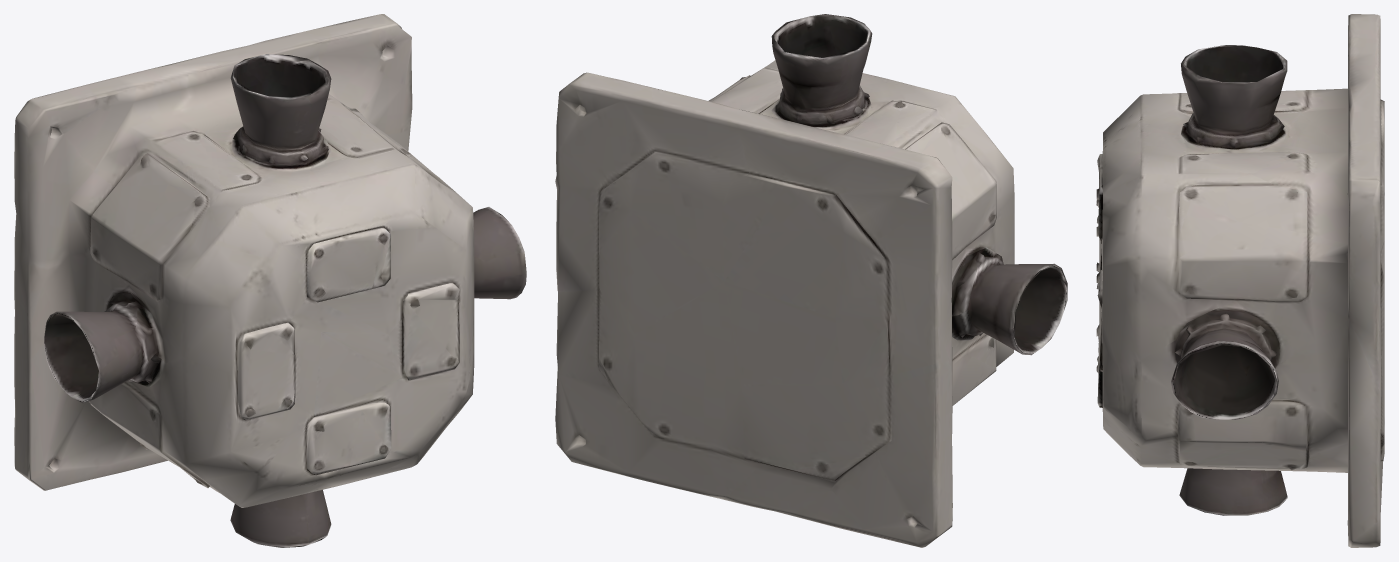
The model's file is rcs.glb.
3 views of the same model, side by side, from view 1: azimuth 30°, elevation 25°; view 2: azimuth 150°, elevation 25°; view 3: azimuth 270°, elevation 25° (orthographic). The views are drawn at different scales.
Visible parts, largest first — view 1: tripo_node_97581342-37e3-422c-96f4-be952719c525; view 2: tripo_node_97581342-37e3-422c-96f4-be952719c525; view 3: tripo_node_97581342-37e3-422c-96f4-be952719c525.
Boxes of the visible parts, box(x1,y1,x2,y2) form: tripo_node_97581342-37e3-422c-96f4-be952719c525: box(14, 14, 526, 547); tripo_node_97581342-37e3-422c-96f4-be952719c525: box(555, 14, 1067, 547); tripo_node_97581342-37e3-422c-96f4-be952719c525: box(1096, 14, 1384, 547).
Bounding box in the file's own units: 1 × 1 × 0.6001.
1 material, 1 textured.
